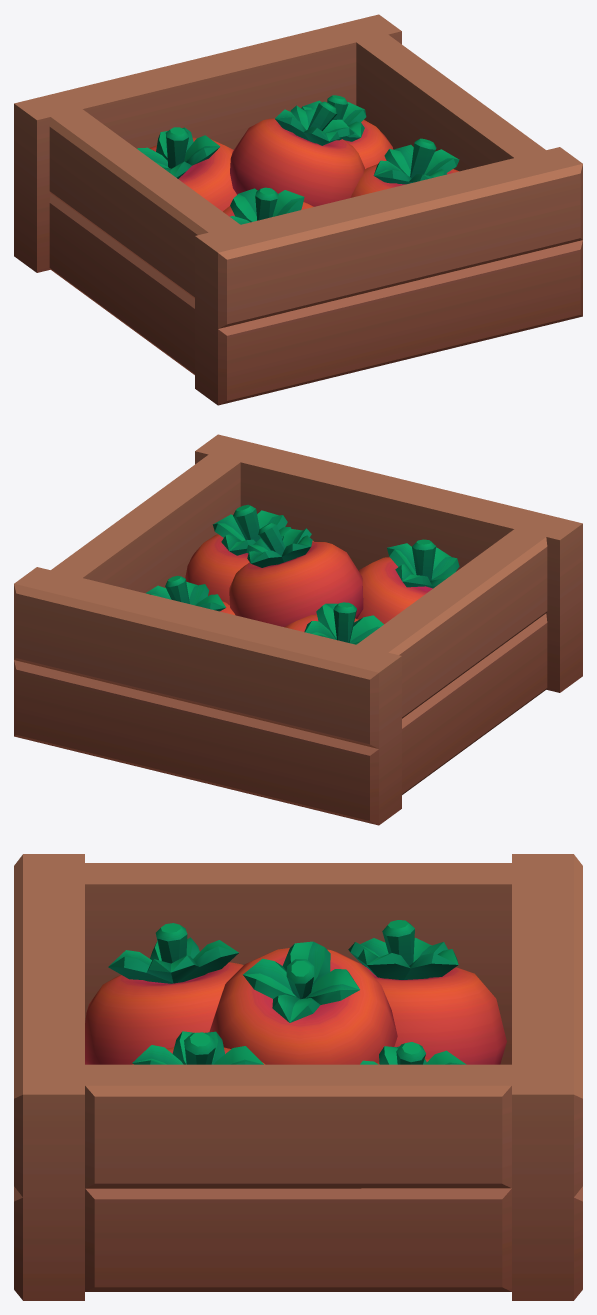
Rendered from tomato_coutner.glb.
3 renders of one model, top to bottom at view 1: azimuth 30°, elevation 25°; view 2: azimuth 150°, elevation 25°; view 3: azimuth 270°, elevation 25°, orthographic. The views are drawn at different scales.
Visible parts, largest first — view 1: crate_tomatoes; view 2: crate_tomatoes; view 3: crate_tomatoes.
Boxes of the visible parts, left/top/right/bottom form: crate_tomatoes: left=14, top=14, right=582, bottom=405; crate_tomatoes: left=14, top=434, right=582, bottom=825; crate_tomatoes: left=14, top=854, right=582, bottom=1300.
Bounding box in the file's own units: 2 × 0.9233 × 2.
1 material, 1 textured.
